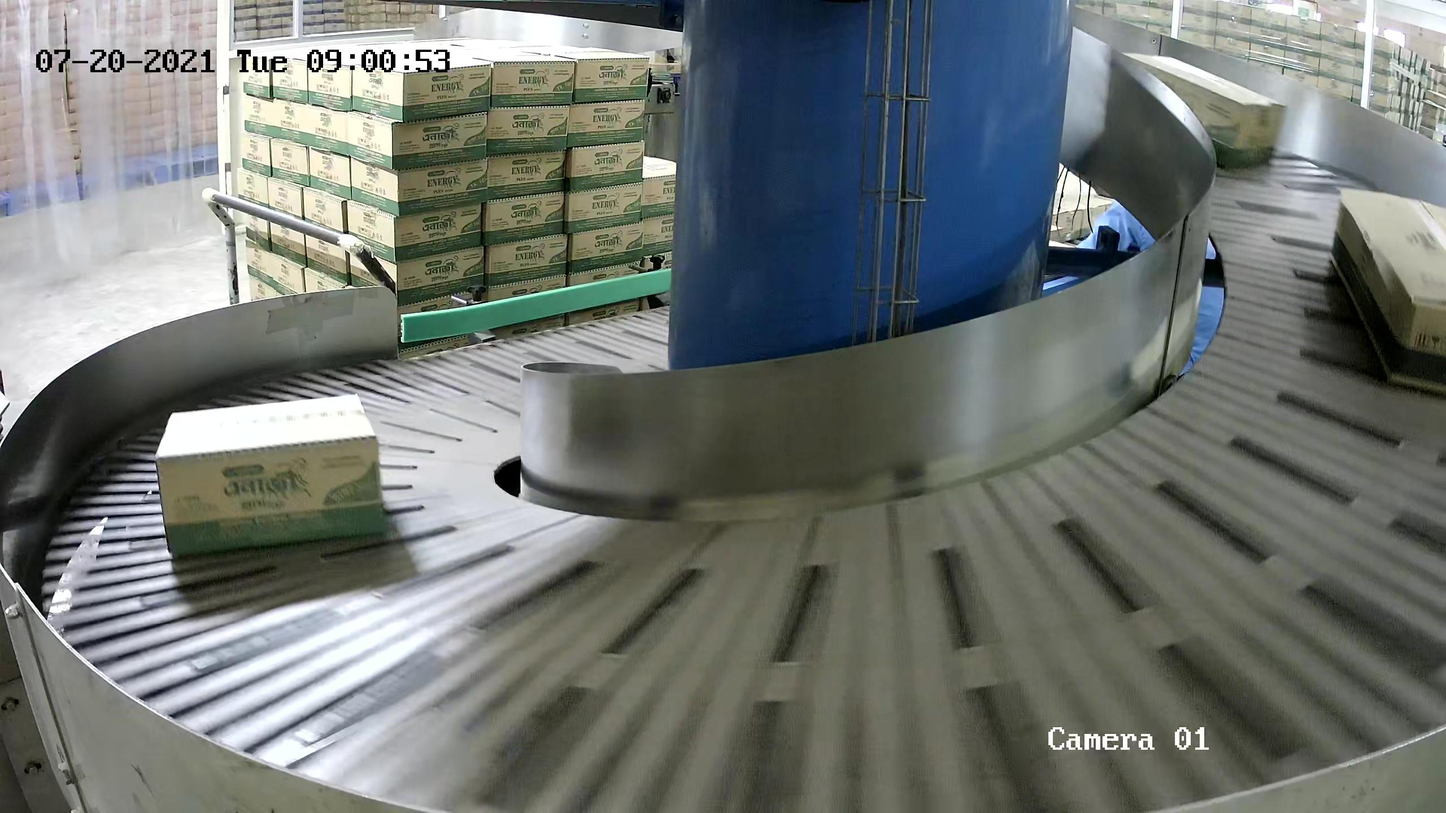Box: (153, 392, 386, 560), (1328, 185, 1446, 395), (1120, 52, 1287, 167)
